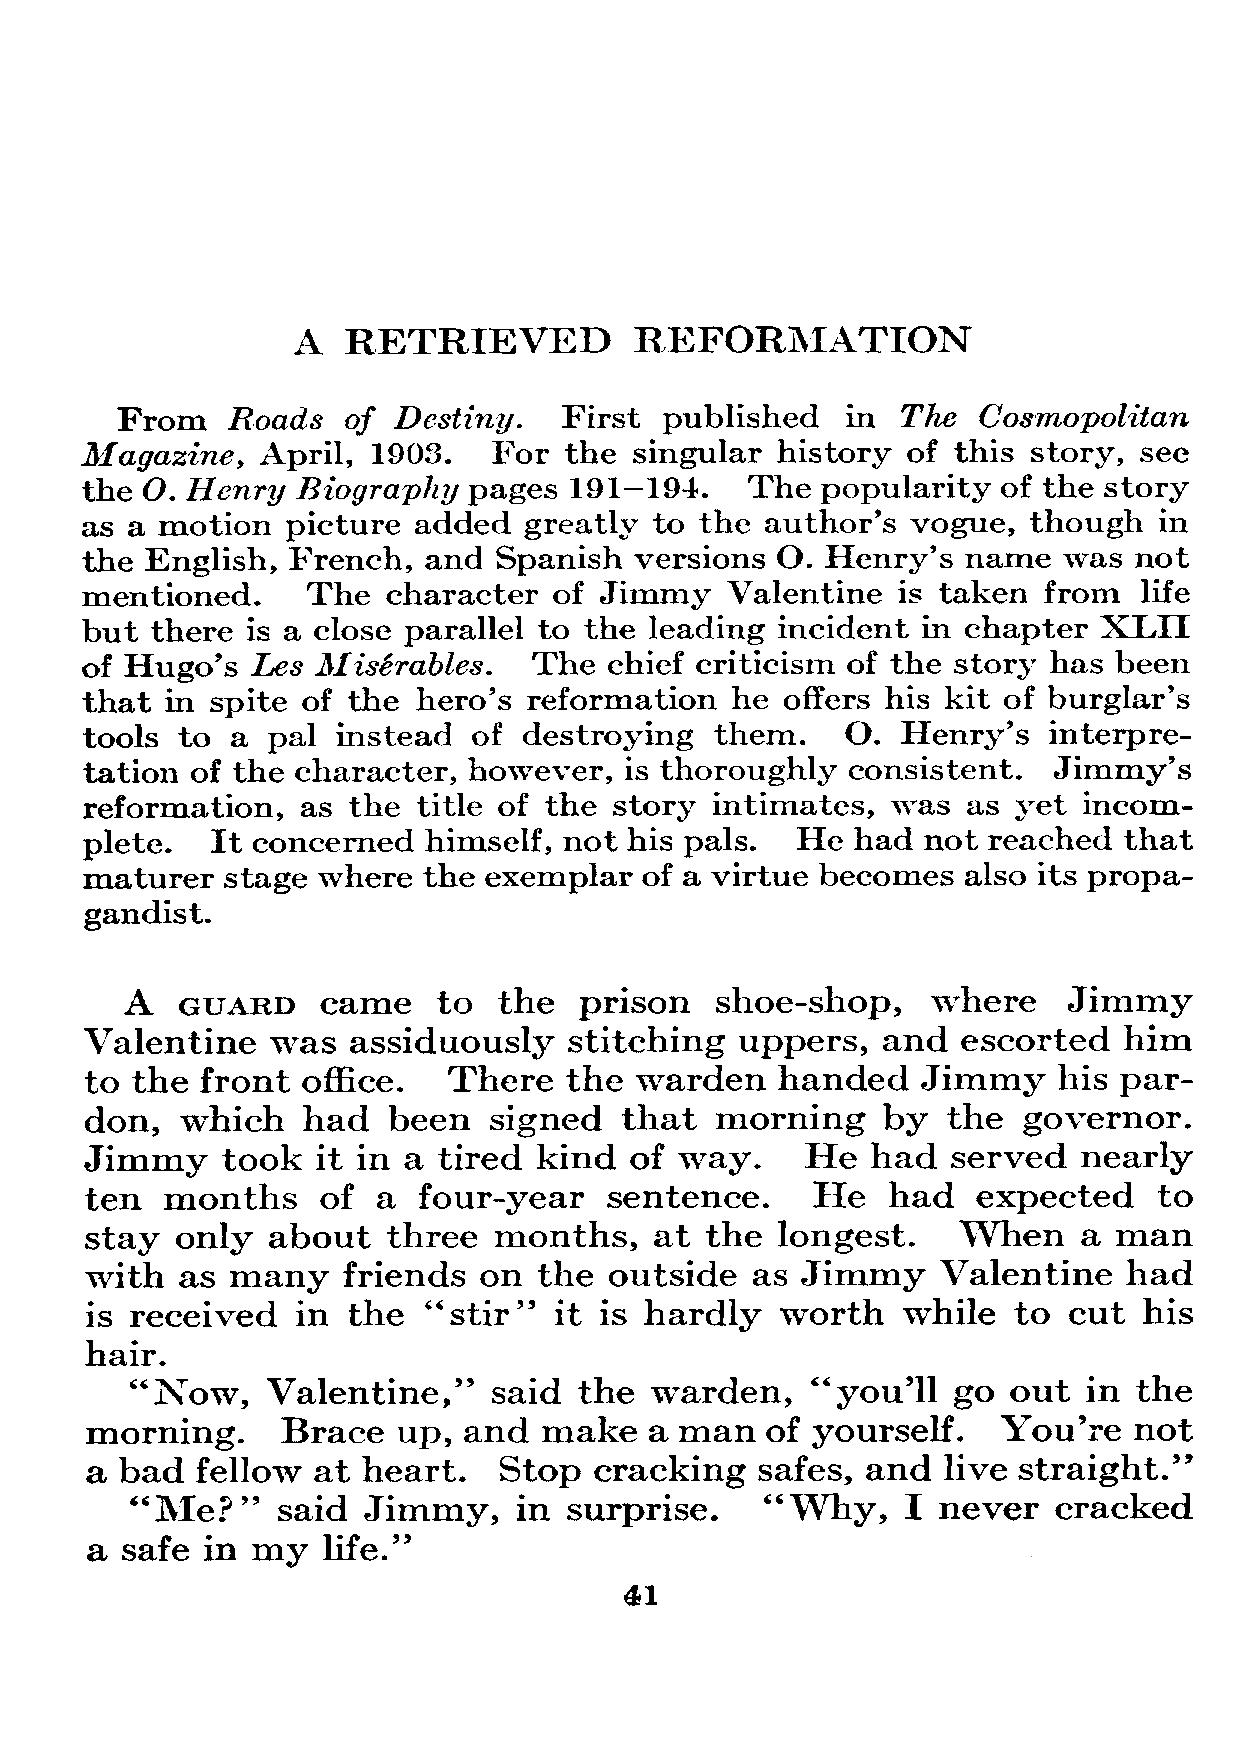chapter: (289, 319, 974, 357)
content: (79, 403, 1194, 1571)
content_pagenumber: (620, 1578, 660, 1610)
